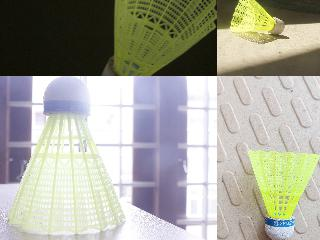shuttlecock: (7, 76, 126, 234), (101, 0, 216, 75), (248, 150, 319, 239), (230, 0, 285, 35)
